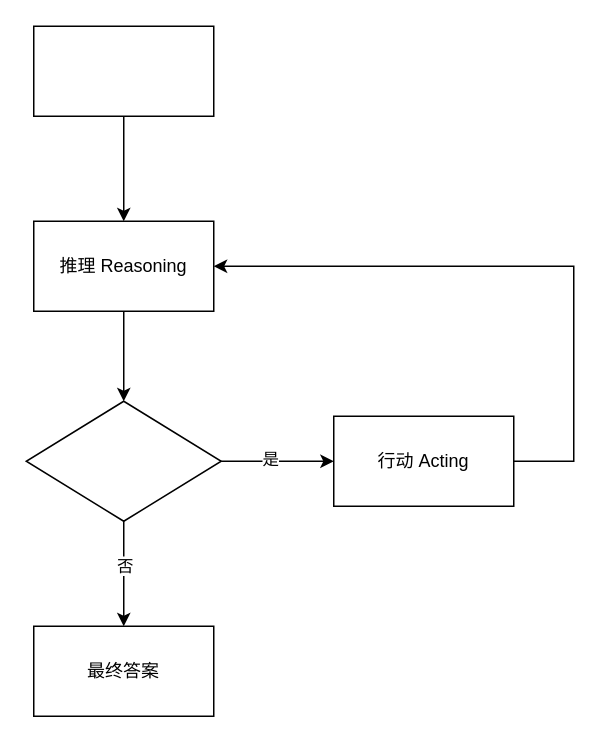
Some shapes in this 612 by 743 pixel diagram are drawn without their labels. Here are the shapes that lost their labels. From the top down, the centre of each, then its label:
[123,70]: 用户输入
[123,460]: 是否需要调用工具
